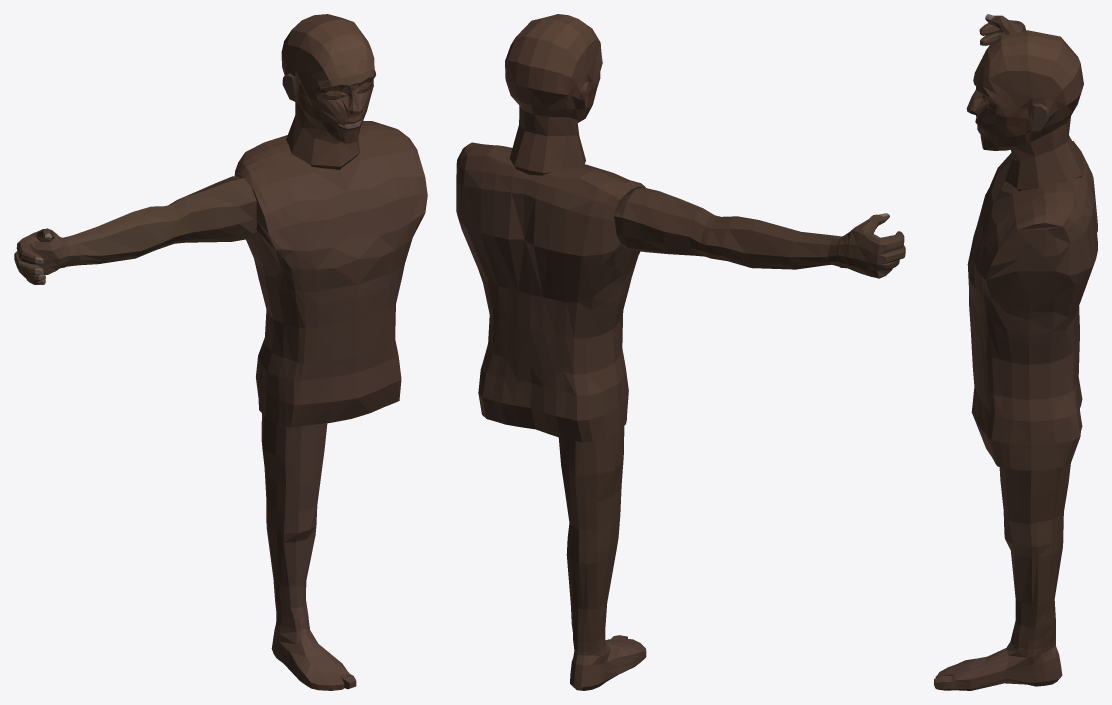
File: baseSkinToneDark.glb
3 renders of one model, left to right at view 1: azimuth 30°, elevation 25°; view 2: azimuth 150°, elevation 25°; view 3: azimuth 270°, elevation 25°, orthographic. The views are drawn at different scales.
Visible parts, largest first — view 1: nakedTorsoSkinToneDark, nakedFaceSkinToneDark, nakedUpperLegSkinToneDark, nakedLowerLegSkinToneDark, nakedUpperArmSkinToneDark, nakedLowerArmSkinToneDark, nakedFootSkinToneDark, nakedHandArmSkinToneDark; view 2: nakedTorsoSkinToneDark, nakedFaceSkinToneDark, nakedLowerArmSkinToneDark, nakedUpperArmSkinToneDark, nakedUpperLegSkinToneDark, nakedLowerLegSkinToneDark, nakedHandArmSkinToneDark, nakedFootSkinToneDark; view 3: nakedTorsoSkinToneDark, nakedFaceSkinToneDark, nakedLowerLegSkinToneDark, nakedFootSkinToneDark, nakedUpperLegSkinToneDark, nakedHandArmSkinToneDark.
Boxes of the visible parts, x1,y1,x2,y2 form: nakedTorsoSkinToneDark: [234, 120, 427, 427]; nakedFaceSkinToneDark: [281, 14, 375, 169]; nakedUpperLegSkinToneDark: [261, 414, 327, 512]; nakedLowerLegSkinToneDark: [266, 499, 317, 629]; nakedUpperArmSkinToneDark: [165, 176, 256, 245]; nakedLowerArmSkinToneDark: [62, 206, 174, 266]; nakedFootSkinToneDark: [271, 622, 356, 690]; nakedHandArmSkinToneDark: [14, 228, 70, 284]; nakedTorsoSkinToneDark: [456, 142, 645, 442]; nakedFaceSkinToneDark: [505, 14, 602, 175]; nakedLowerArmSkinToneDark: [706, 216, 841, 269]; nakedUpperArmSkinToneDark: [614, 187, 720, 258]; nakedUpperLegSkinToneDark: [558, 426, 624, 530]; nakedLowerLegSkinToneDark: [566, 516, 620, 652]; nakedHandArmSkinToneDark: [836, 213, 905, 278]; nakedFootSkinToneDark: [570, 635, 646, 690]; nakedTorsoSkinToneDark: [967, 141, 1097, 470]; nakedFaceSkinToneDark: [966, 30, 1084, 191]; nakedLowerLegSkinToneDark: [1003, 512, 1063, 649]; nakedFootSkinToneDark: [934, 641, 1062, 690]; nakedUpperLegSkinToneDark: [999, 462, 1070, 523]; nakedHandArmSkinToneDark: [979, 14, 1025, 52].
Bounding box in the file's own units: 1.31 × 1.94 × 0.4338.
